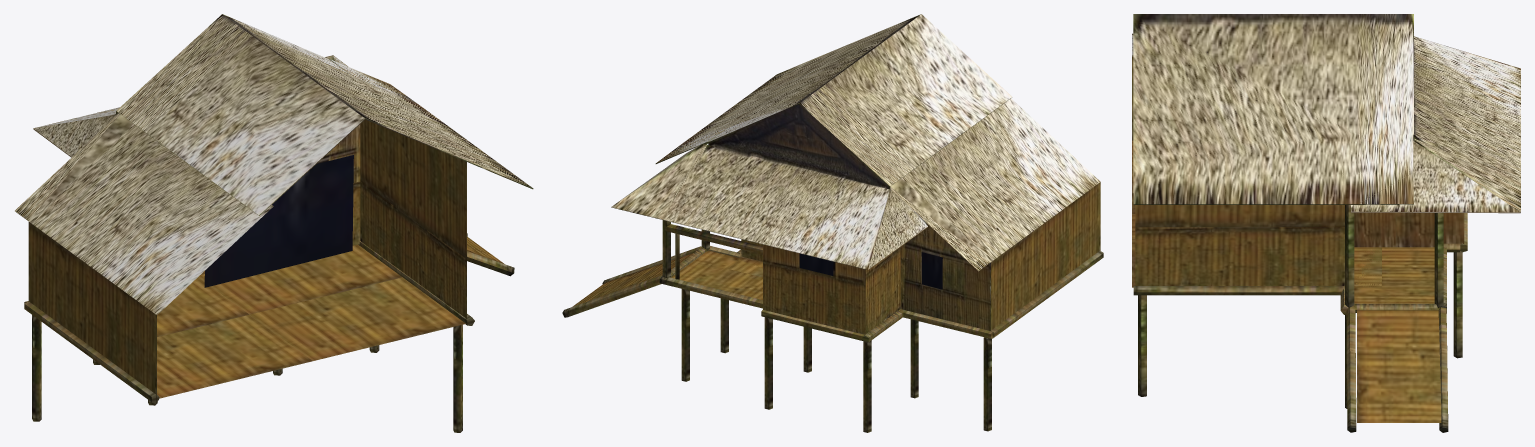
File: Bahay kubo test.fbx
3 views of the same model, side by side, from view 1: azimuth 30°, elevation 25°; view 2: azimuth 150°, elevation 25°; view 3: azimuth 270°, elevation 25° (orthographic). The views are drawn at different scales.
Visible parts, largest first — view 1: Front Wall; view 2: Front Wall; view 3: Front Wall.
Boxes of the visible parts, left/top/right/bottom form: Front Wall: left=15, top=14, right=533, bottom=432; Front Wall: left=562, top=14, right=1103, bottom=432; Front Wall: left=1132, top=14, right=1520, bottom=432.
Bounding box in the file's own units: 7.9 × 5.72 × 5.49.
15 materials, 15 textured.
